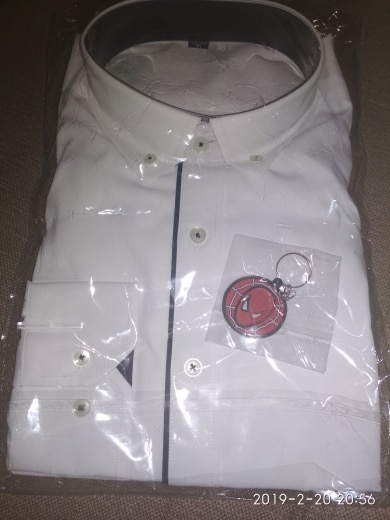shirts: (11, 6, 384, 497)
